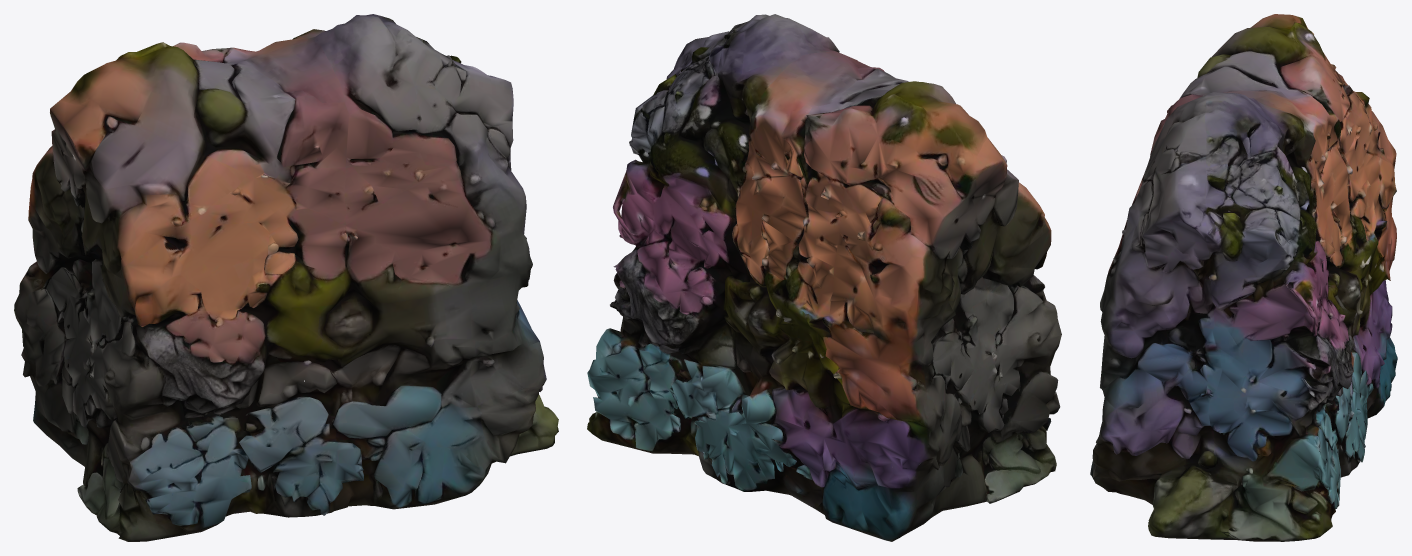
Rendered from rock_d.glb.
The picture shows the model from 3 angles, left to right: view 1: azimuth 30°, elevation 25°; view 2: azimuth 150°, elevation 25°; view 3: azimuth 270°, elevation 25°; orthographic projection. The views are drawn at different scales.
Parts seen in each view (by area): view 1: tripo_node_30c3cb0c; view 2: tripo_node_30c3cb0c; view 3: tripo_node_30c3cb0c.
Part boxes in pixels (x1,y1,x2,y2): tripo_node_30c3cb0c: [14, 14, 558, 541]; tripo_node_30c3cb0c: [587, 14, 1061, 541]; tripo_node_30c3cb0c: [1090, 14, 1397, 541].
Size of the model in its own units: 0.9786 by 0.9487 by 0.685.
Materials: 1 (1 with a texture image).
